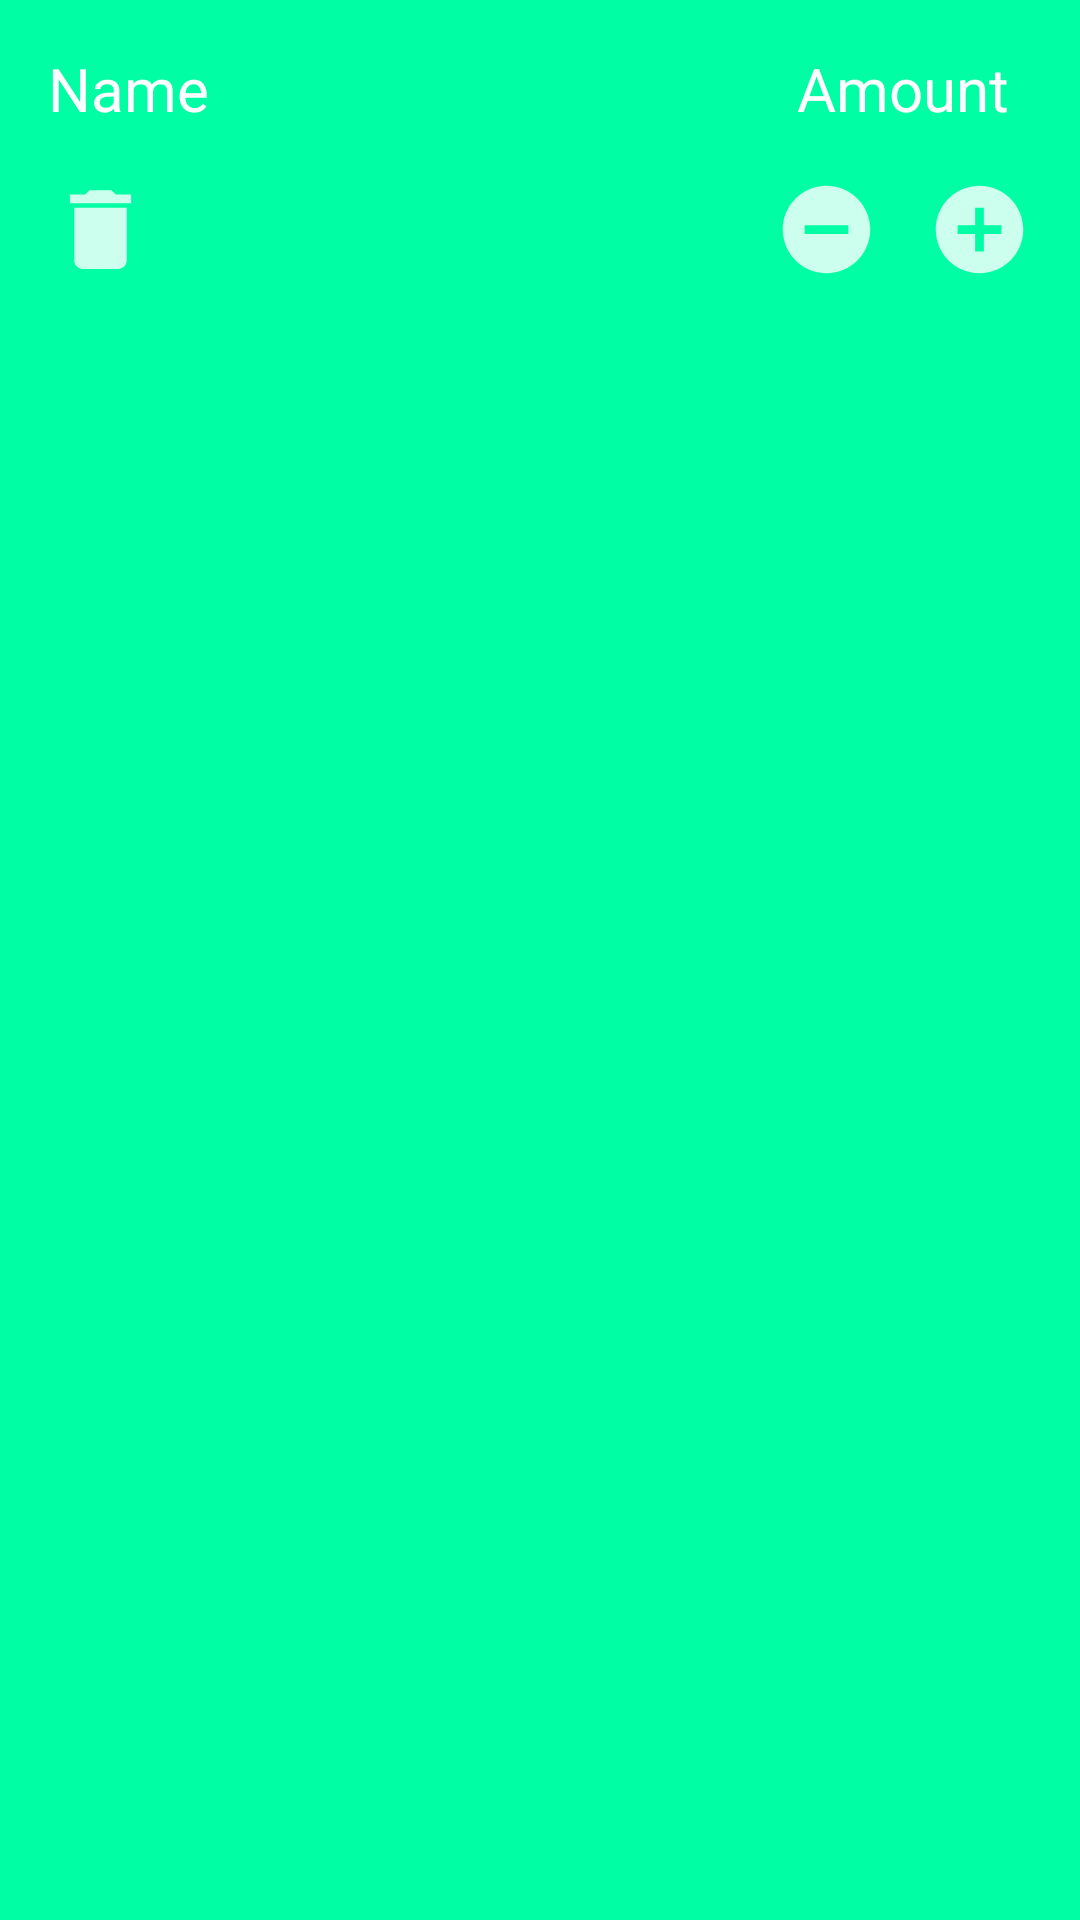

Point at icon controls on the screen. Image size 1080 x 1920, points as (x=x, y=y).
delete: (x=100, y=229)
minus: (x=826, y=229)
plus: (x=979, y=229)
